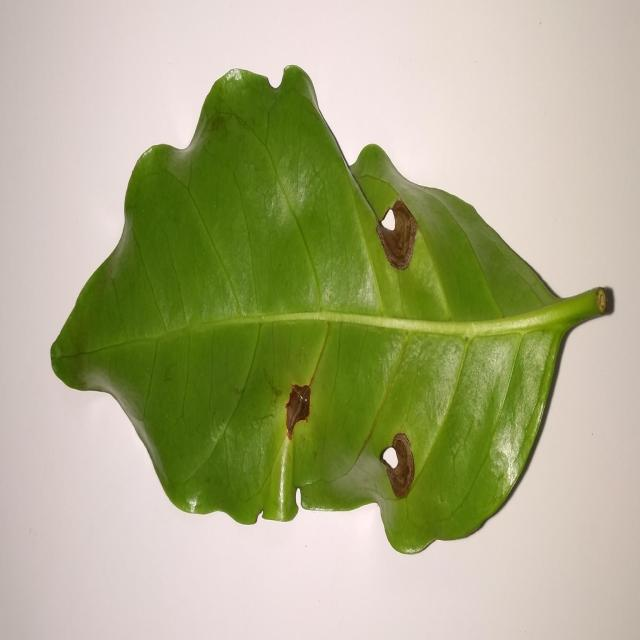Enfermedad-Antracnosis: (48, 66, 616, 558)
